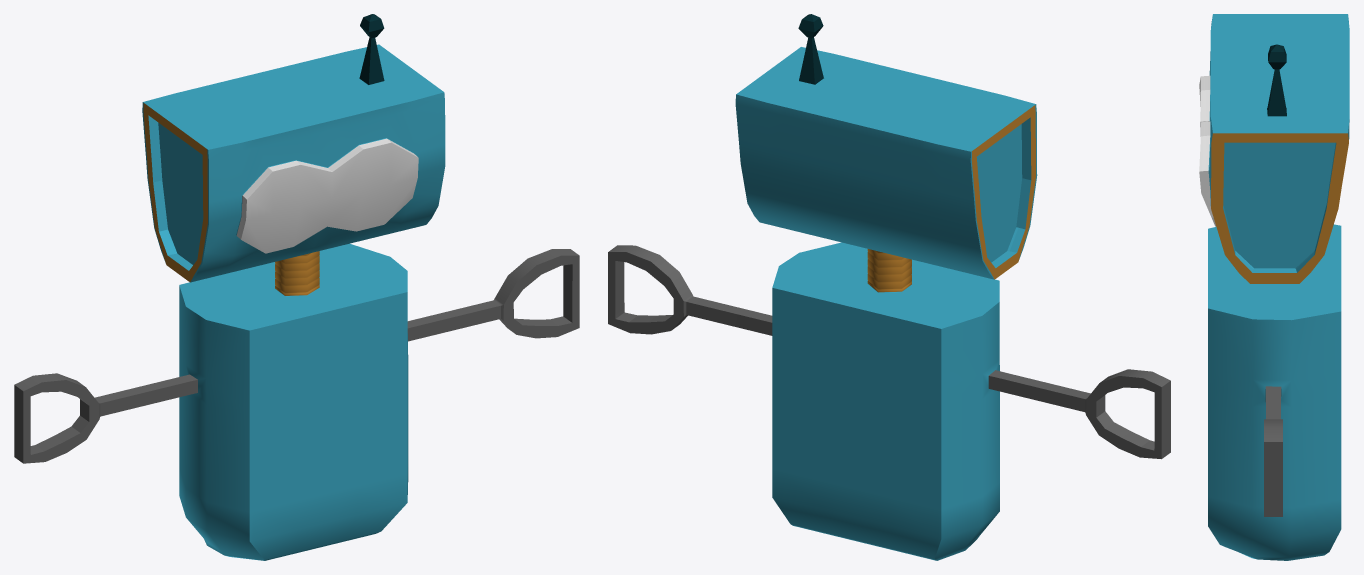
Rendered from Robot_temp.fbx.
3 renders of one model, left to right at view 1: azimuth 30°, elevation 25°; view 2: azimuth 150°, elevation 25°; view 3: azimuth 270°, elevation 25°, orthographic. The views are drawn at different scales.
Parts seen in each view (by area): view 1: Body4; view 2: Body4; view 3: Body4.
Part boxes in pixels (box(x1,y1,x2,y2)): Body4: box(14, 14, 579, 560); Body4: box(608, 14, 1170, 560); Body4: box(1199, 14, 1349, 560).
Size of the model in its own units: 8.04 by 6.86 by 1.82.
